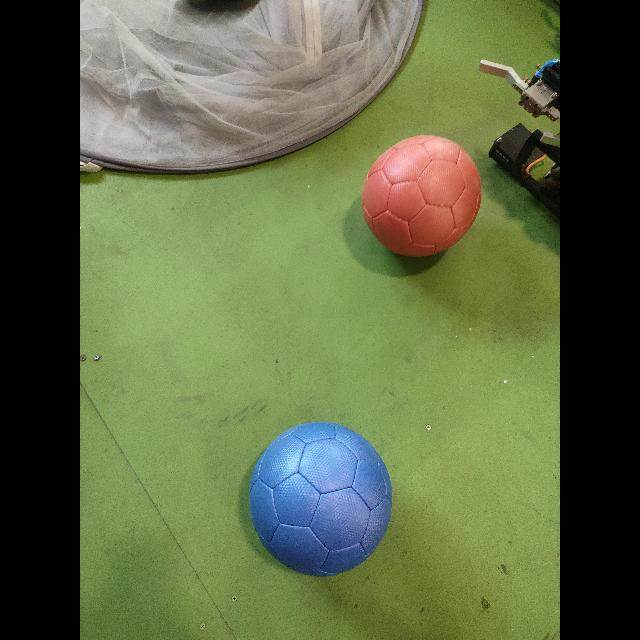B: (251, 420, 393, 576)
R: (364, 134, 481, 260)
